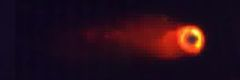keyhole: (185, 32, 200, 46)
